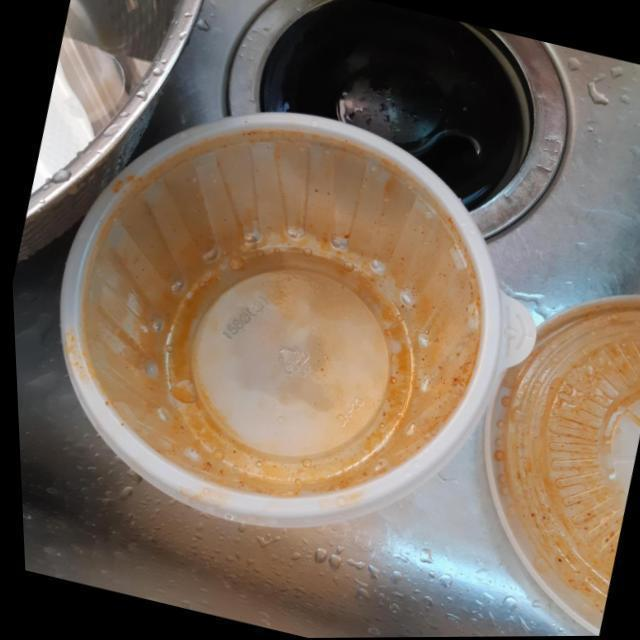disposable: (38, 106, 560, 530)
